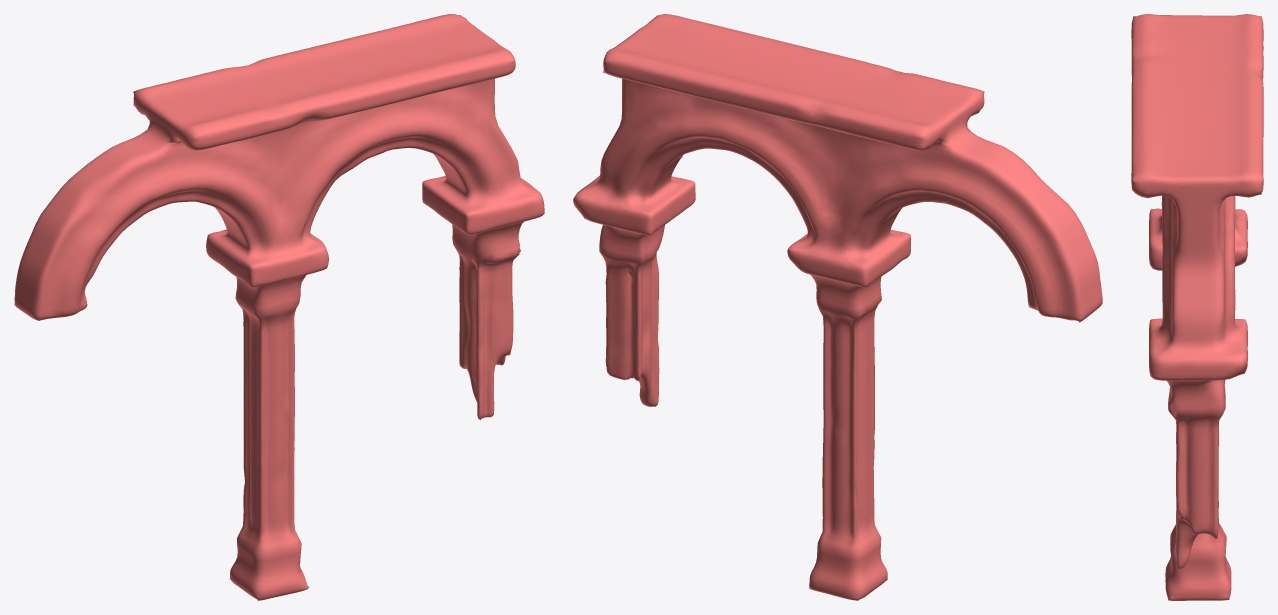
Rendered from arch04.fbx.
3 renders of one model, left to right at view 1: azimuth 30°, elevation 25°; view 2: azimuth 150°, elevation 25°; view 3: azimuth 270°, elevation 25°, orthographic. The views are drawn at different scales.
Visible parts, largest first — view 1: Merged_pCube14; view 2: Merged_pCube14; view 3: Merged_pCube14.
Boxes of the visible parts, x1,y1,x2,y2 form: Merged_pCube14: [14, 14, 544, 600]; Merged_pCube14: [573, 14, 1102, 600]; Merged_pCube14: [1131, 14, 1263, 600].
Bounding box in the file's own units: 9.16 × 8.78 × 2.
